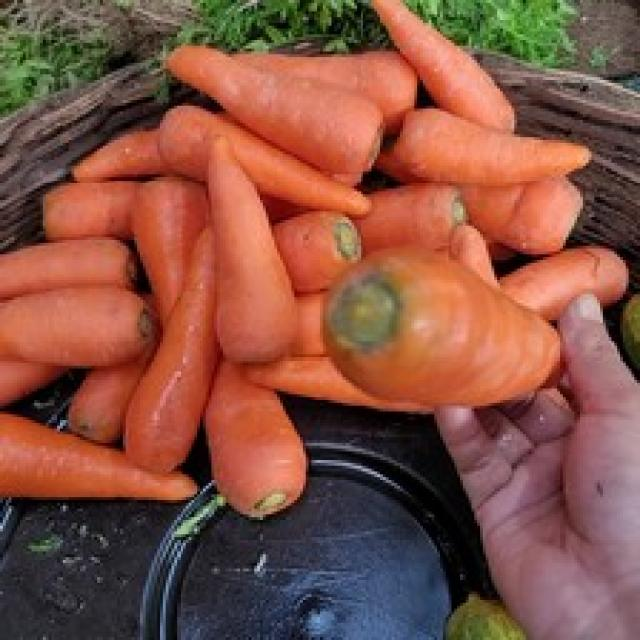Fresh_Carrot: (382, 253, 566, 405), (182, 44, 375, 166), (201, 125, 288, 350), (0, 411, 196, 509), (400, 106, 584, 185), (4, 285, 147, 372)
